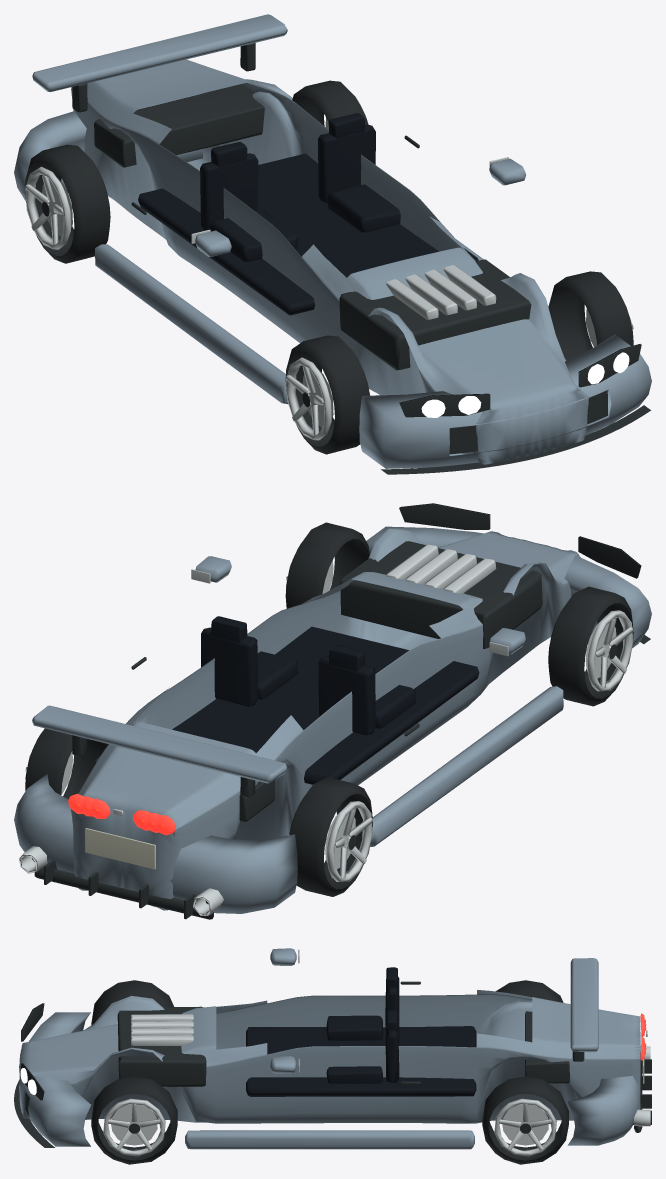
File: drevalyn-rhelix.glb
3 views of the same model, one above another, from view 1: azimuth 30°, elevation 25°; view 2: azimuth 150°, elevation 25°; view 3: azimuth 270°, elevation 25° (orthographic). The views are drawn at different scales.
Visible parts, largest first — view 1: scocca, interni, paraurti_ant, cofano, porta_sx, motore, audio_bagagliaio, spoiler, minigonna_sx, ruota_post_sx_gomma, ruota_ant_sx_gomma, ruota_ant_dx_gomma (+25 smaller); view 2: scocca, interni, paraurti_post, motore, portellone, porta_sx, spoiler, minigonna_sx, ruota_ant_sx_gomma, ruota_post_sx_gomma, ruota_ant_dx_gomma, porta_dx (+25 smaller); view 3: scocca, porta_dx, interni, porta_sx, minigonna_dx, paraurti_ant, cofano, paraurti_post, motore, portellone, ruota_post_dx_gomma, ruota_ant_dx_gomma (+22 smaller).
Boxes of the visible parts, box(x1,y1,x2,y2) form: scocca: box(71, 82, 588, 464); interni: box(138, 153, 478, 315); paraurti_ant: box(359, 334, 651, 468); cofano: box(347, 247, 568, 394); porta_sx: box(159, 144, 314, 343); motore: box(339, 259, 531, 370); audio_bagagliaio: box(94, 84, 264, 167); spoiler: box(32, 14, 287, 91); minigonna_sx: box(95, 244, 287, 404); ruota_post_sx_gomma: box(25, 144, 110, 263); ruota_ant_sx_gomma: box(285, 335, 369, 454); ruota_ant_dx_gomma: box(548, 271, 633, 360); scocca: box(71, 528, 580, 910); interni: box(172, 626, 479, 784); paraurti_post: box(14, 774, 297, 913); motore: box(340, 541, 542, 648); portellone: box(82, 722, 255, 816); porta_sx: box(302, 635, 451, 799); spoiler: box(32, 705, 287, 783); minigonna_sx: box(370, 686, 563, 846); ruota_ant_sx_gomma: box(548, 586, 633, 706); ruota_post_sx_gomma: box(289, 777, 372, 896); ruota_ant_dx_gomma: box(285, 522, 369, 608); porta_dx: box(159, 600, 311, 729); scocca: box(19, 990, 640, 1123); porta_dx: box(251, 1046, 476, 1123); interni: box(246, 1026, 476, 1096); porta_sx: box(251, 994, 476, 1047); minigonna_dx: box(185, 1130, 474, 1149); paraurti_ant: box(19, 1012, 90, 1146); cofano: box(42, 1006, 216, 1075); paraurti_post: box(567, 1076, 639, 1145); motore: box(117, 1006, 206, 1086); portellone: box(532, 997, 640, 1048); ruota_post_dx_gomma: box(482, 1076, 568, 1164); ruota_ant_dx_gomma: box(91, 1076, 177, 1164).
Size of the model in its own units: 2.17 by 1.01 by 4.99.
